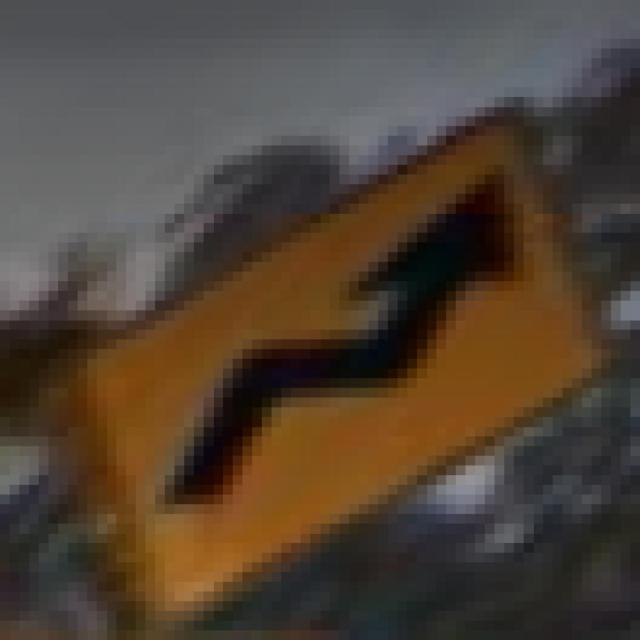Tikungan Ganda Pertama Ke Kanan: (58, 78, 611, 611)
